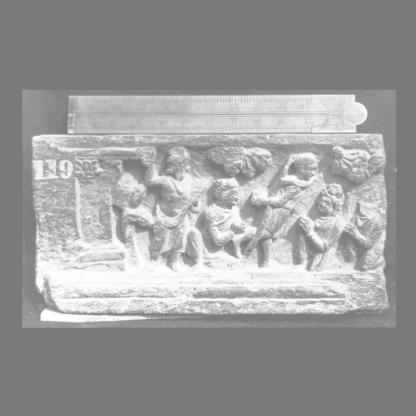buddha-sitting: (244, 153, 318, 266)
